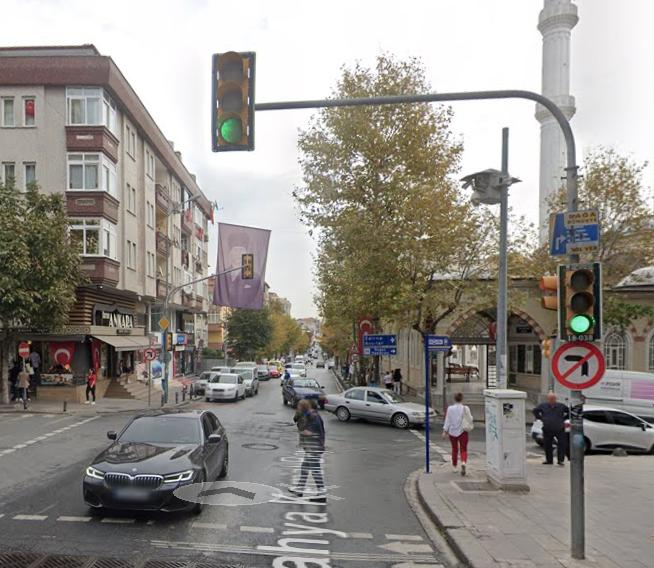greenlight: (205, 44, 262, 158), (555, 261, 605, 342)
leftturnsareforbidden: (548, 341, 609, 394)
